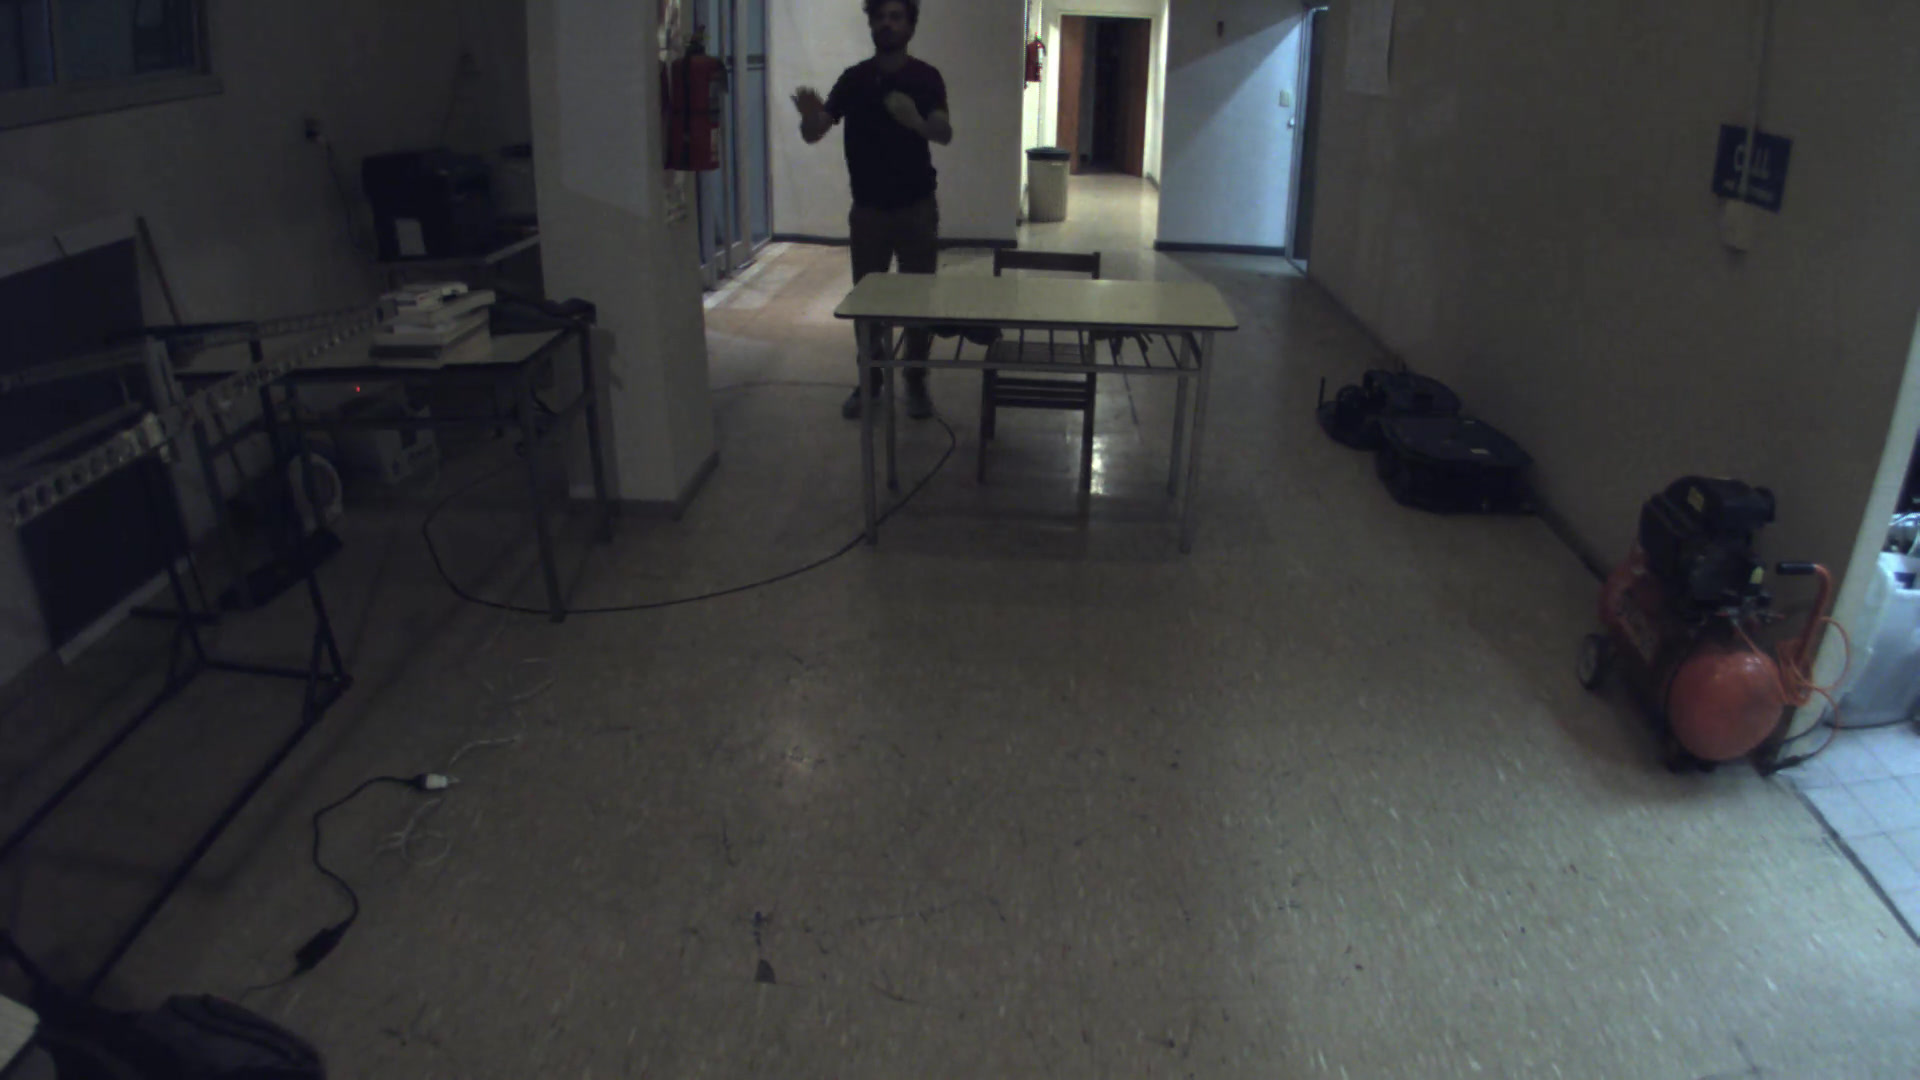hand: (779, 80, 851, 146), (876, 90, 942, 135)
